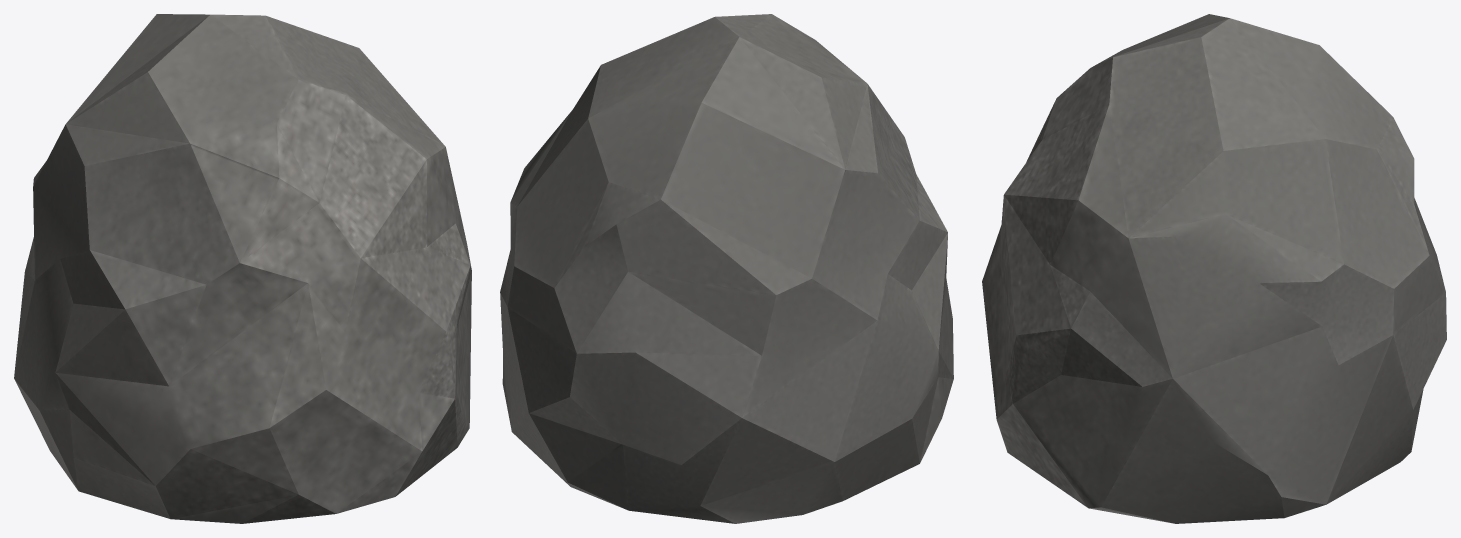
3 views of the same model, side by side, from view 1: azimuth 30°, elevation 25°; view 2: azimuth 150°, elevation 25°; view 3: azimuth 270°, elevation 25° (orthographic). The views are drawn at different scales.
Visible parts, largest first — view 1: output_unwrapped; view 2: output_unwrapped; view 3: output_unwrapped.
Part boxes in pixels (x1,y1,x2,y2): output_unwrapped: [14, 14, 471, 523]; output_unwrapped: [500, 14, 953, 523]; output_unwrapped: [982, 14, 1446, 523].
Size of the model in its own units: 1.96 by 2 by 2.
1 material, 1 textured.
